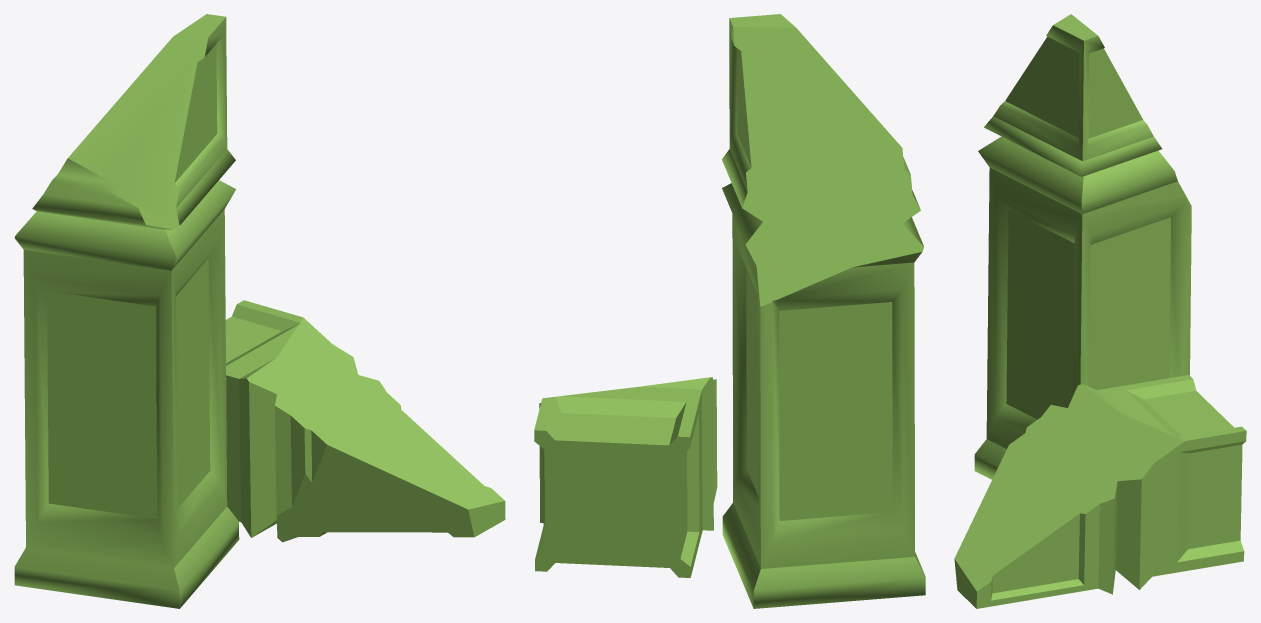
File: BrokenBlock4.obj
3 views of the same model, side by side, from view 1: azimuth 30°, elevation 25°; view 2: azimuth 150°, elevation 25°; view 3: azimuth 270°, elevation 25° (orthographic). The views are drawn at different scales.
Visible parts, largest first — view 1: BrokenBlock4; view 2: BrokenBlock4; view 3: BrokenBlock4.
Part boxes in pixels (x1,y1,x2,y2): BrokenBlock4: (14,14,505,608); BrokenBlock4: (534,14,925,608); BrokenBlock4: (954,14,1246,608).
Bounding box in the file's own units: 12.67 × 14.95 × 8.25.
